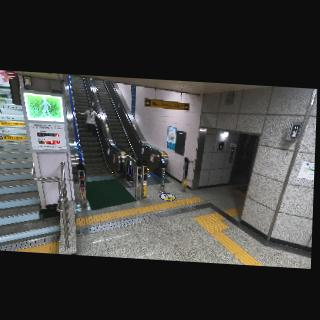normal: (76, 104, 103, 139)
